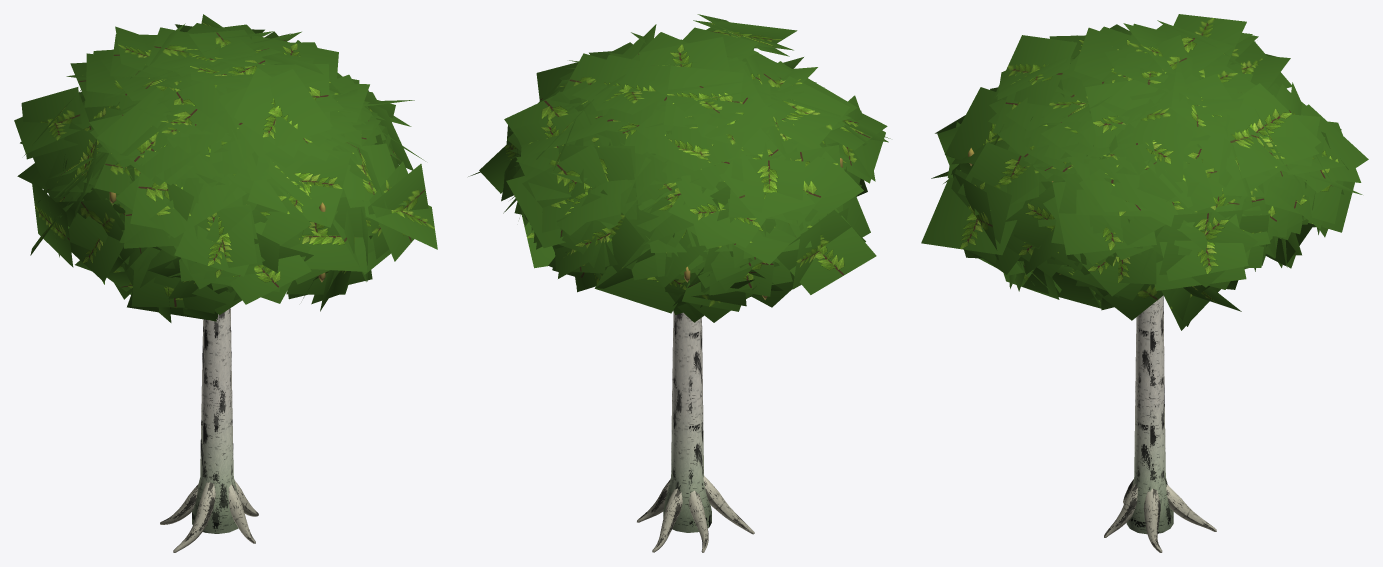
Rendered from tree_young.glb.
3 renders of one model, left to right at view 1: azimuth 30°, elevation 25°; view 2: azimuth 150°, elevation 25°; view 3: azimuth 270°, elevation 25°, orthographic.
Parts seen in each view (by area): view 1: Leaves, Trunk, Roots; view 2: Leaves, Trunk, Roots; view 3: Leaves, Trunk, Roots.
Part boxes in pixels (bbox=[...]): Leaves: bbox=[14, 14, 437, 322]; Trunk: bbox=[192, 308, 238, 533]; Roots: bbox=[160, 480, 258, 552]; Leaves: bbox=[468, 14, 890, 322]; Trunk: bbox=[663, 311, 711, 532]; Roots: bbox=[637, 475, 754, 552]; Leaves: bbox=[921, 14, 1368, 330]; Trunk: bbox=[1126, 295, 1173, 534]; Roots: bbox=[1104, 479, 1216, 552].
Bounding box in the file's own units: 3.29 × 4.26 × 3.48.
Materials: 3 (2 with a texture image).
